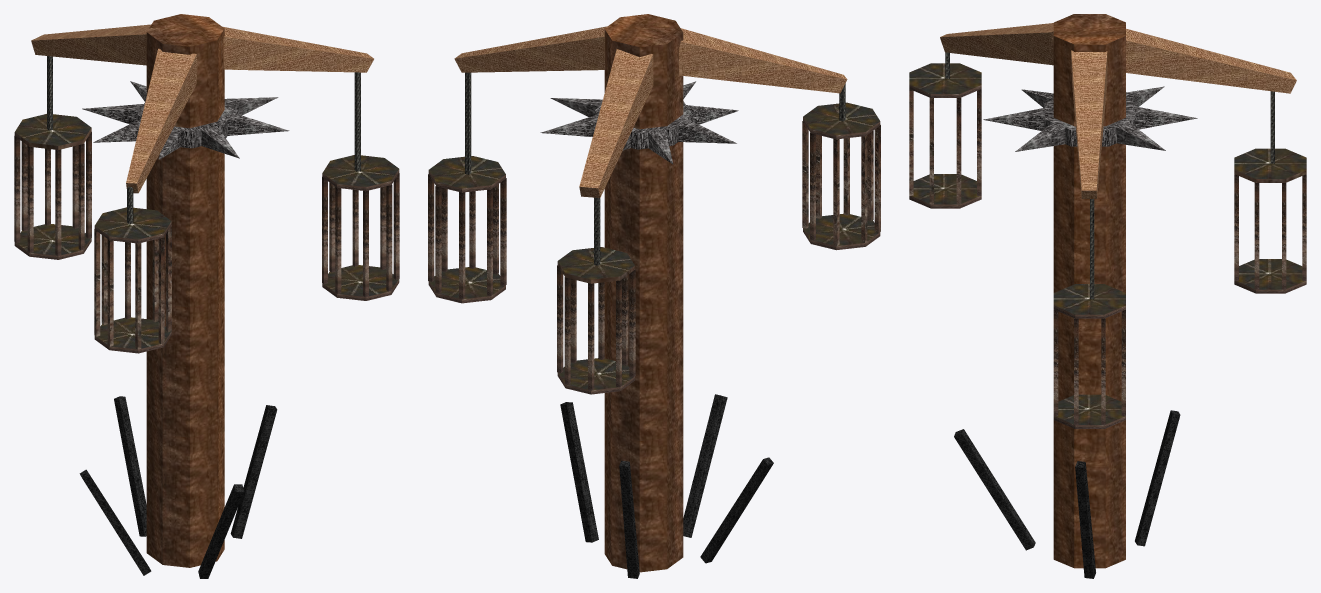
The model's file is architecture_prisonerpole.glb.
3 renders of one model, left to right at view 1: azimuth 30°, elevation 25°; view 2: azimuth 150°, elevation 25°; view 3: azimuth 270°, elevation 25°, orthographic.
Parts seen in each view (by area): view 1: prisonerpole; view 2: prisonerpole; view 3: prisonerpole.
Part boxes in pixels (x1,y1,x2,y2): prisonerpole: (14, 14, 399, 578); prisonerpole: (428, 14, 880, 578); prisonerpole: (909, 14, 1306, 578).
Size of the model in its own units: 11.62 by 16.06 by 11.
Materials: 7 (7 with a texture image).
